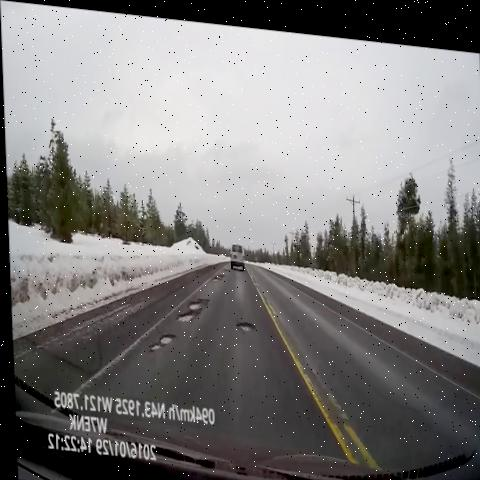pothole: (167, 284, 213, 328), (142, 323, 177, 355), (230, 309, 257, 331), (206, 264, 225, 286), (217, 259, 230, 267)
